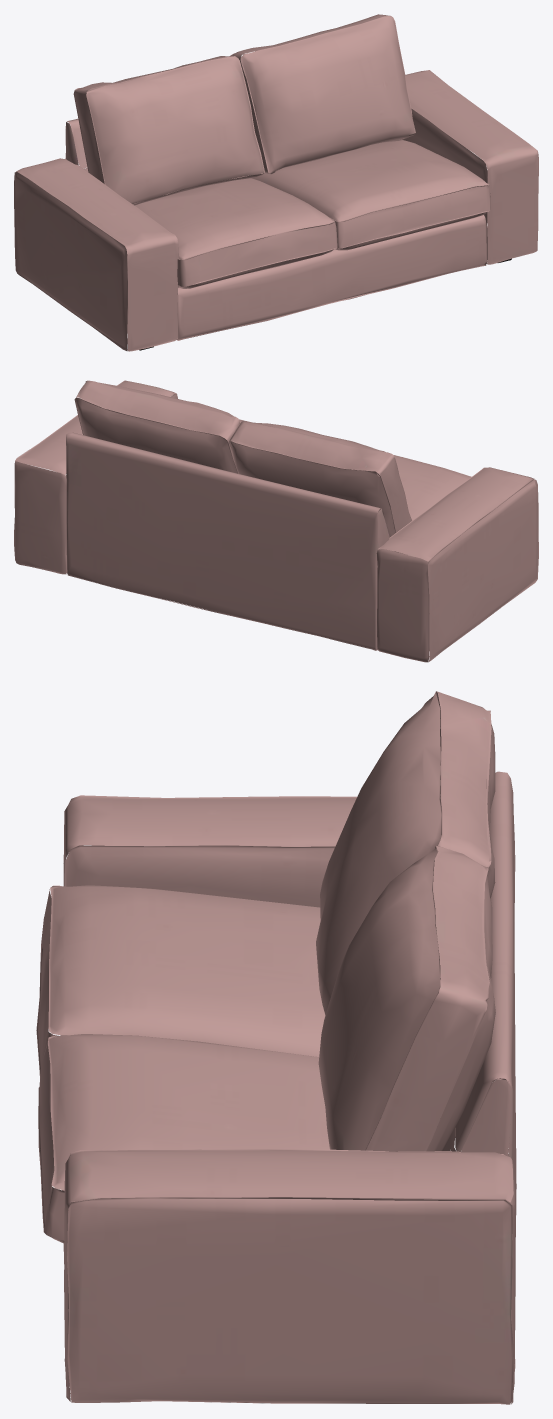
Rendered from cover-gunnared-jasny-rozowy.glb.
3 views of the same model, one above another, from view 1: azimuth 30°, elevation 25°; view 2: azimuth 150°, elevation 25°; view 3: azimuth 270°, elevation 25° (orthographic). The views are drawn at different scales.
Parts seen in each view (by area): view 1: Mesh_0; view 2: Mesh_0; view 3: Mesh_0.
Boxes of the visible parts, x1,y1,x2,y2 form: Mesh_0: [14, 14, 538, 351]; Mesh_0: [14, 380, 538, 662]; Mesh_0: [36, 691, 516, 1404].
Bounding box in the file's own units: 1.9 × 0.8299 × 0.9501.
2 materials, 2 textured.
